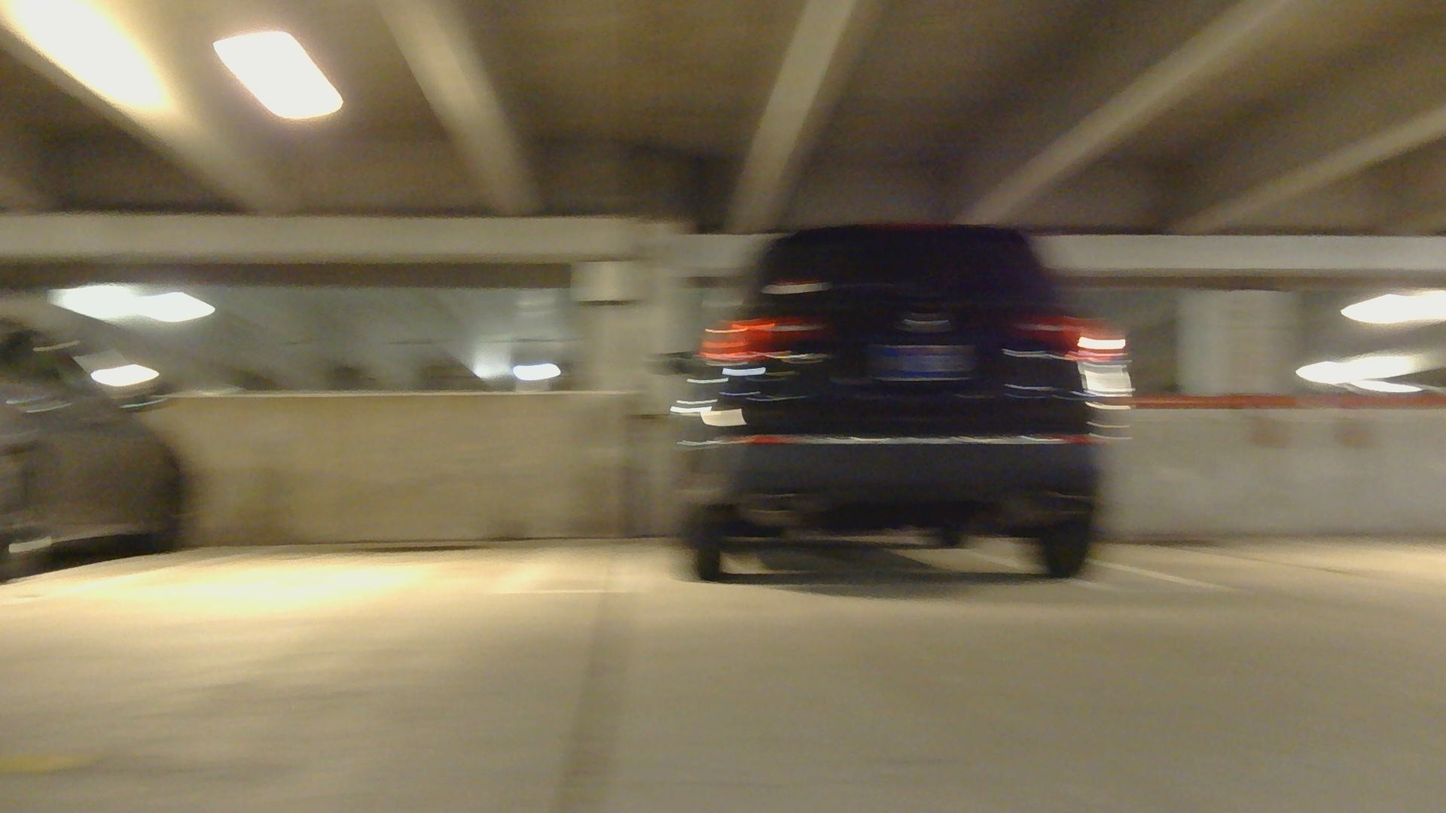empty_spot: (1110, 426, 1446, 609), (82, 486, 578, 608)
occupied_spot: (667, 220, 1125, 592), (0, 314, 187, 600)
